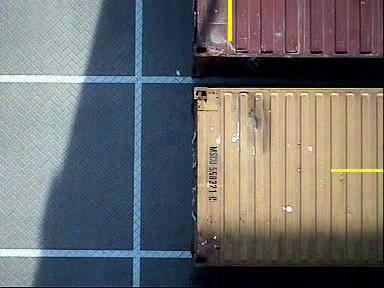groundmarker_2: (103, 154, 161, 191), (106, 1, 164, 37)
